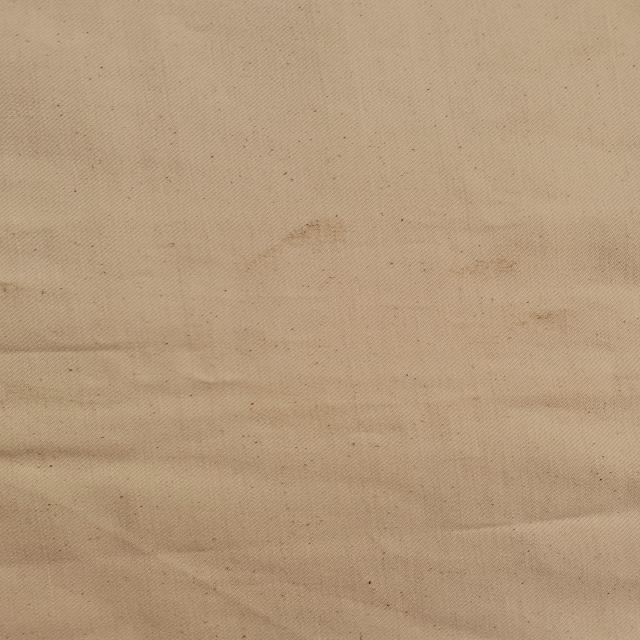taaaches: (256, 212, 354, 282), (446, 255, 530, 281), (515, 304, 593, 326)
